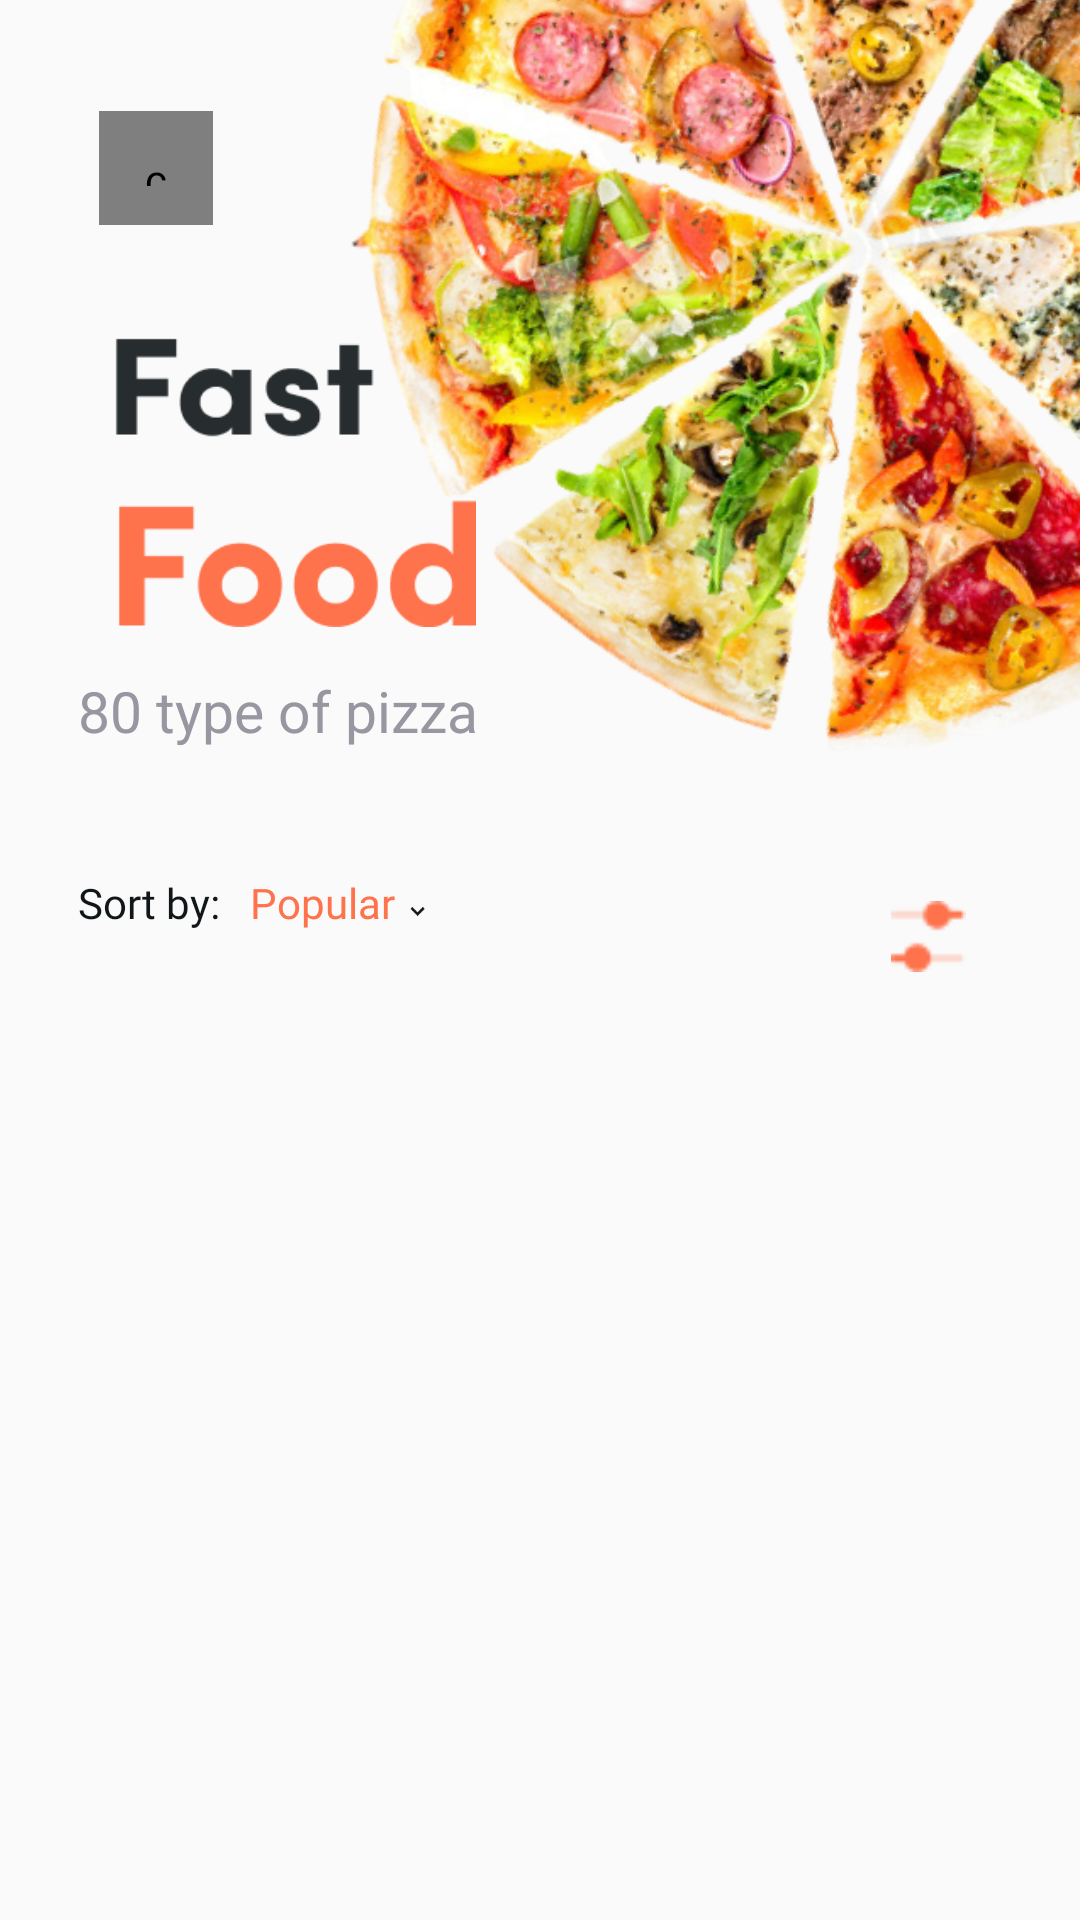

Icon bounding boxes for this 1080 x 1920 phone screenshot, format {"left": x1, "top": y1, "right": x2, "bottom": y2}:
filter: {"left": 891, "top": 901, "right": 966, "bottom": 972}
